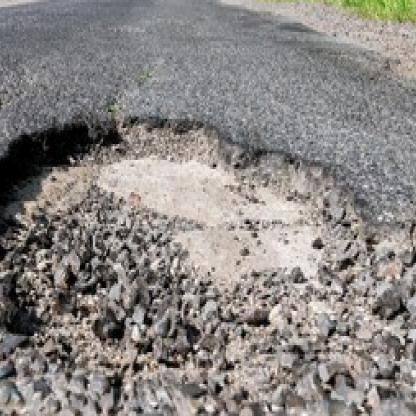pothole: (0, 108, 416, 393)
